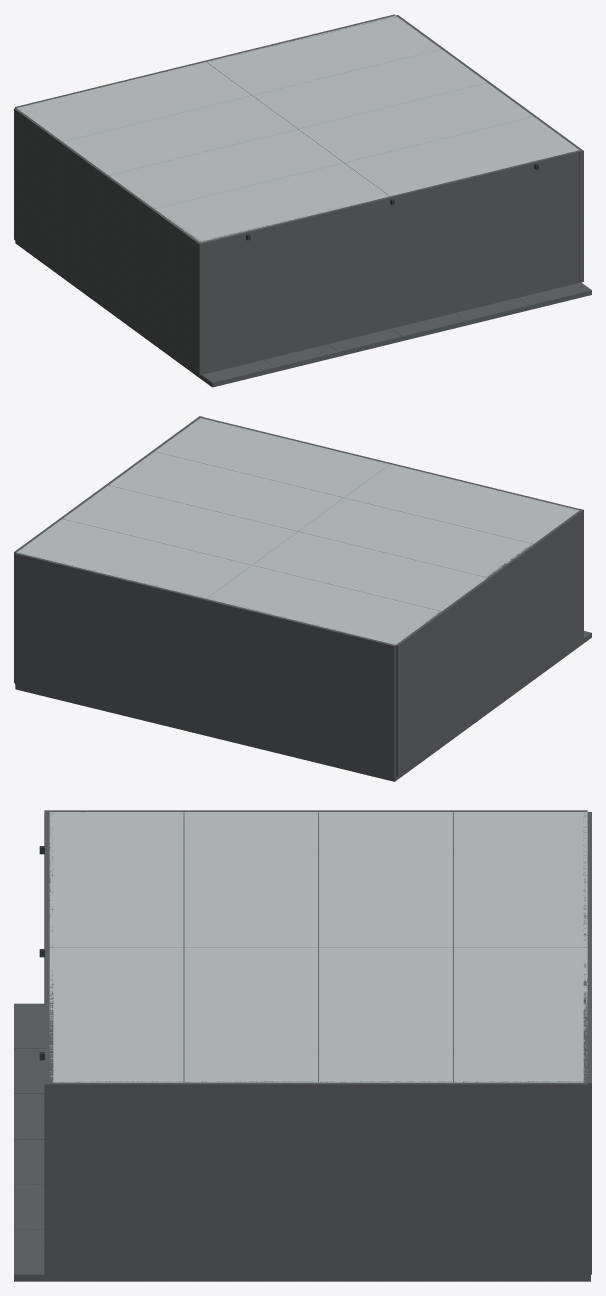
File: tier4.glb
3 renders of one model, top to bottom at view 1: azimuth 30°, elevation 25°; view 2: azimuth 150°, elevation 25°; view 3: azimuth 270°, elevation 25°, orthographic. The views are drawn at different scales.
Visible parts, largest first — view 1: Tier4_Warm_architectural_concrete, Tier4_Pale_ceramic_powdercoat, Tier4_Original_mottled_concrete; view 2: Tier4_Warm_architectural_concrete, Tier4_Pale_ceramic_powdercoat, Tier4_Original_mottled_concrete; view 3: Tier4_Pale_ceramic_powdercoat, Tier4_Warm_architectural_concrete, Tier4_Original_mottled_concrete, Tier4_Graphite_structural_powdercoat.
Part boxes in pixels (bbox=[...]): Tier4_Warm_architectural_concrete: bbox=[14, 14, 583, 375]; Tier4_Pale_ceramic_powdercoat: bbox=[17, 15, 579, 242]; Tier4_Original_mottled_concrete: bbox=[15, 241, 591, 387]; Tier4_Warm_architectural_concrete: bbox=[14, 416, 583, 777]; Tier4_Pale_ceramic_powdercoat: bbox=[17, 418, 579, 644]; Tier4_Original_mottled_concrete: bbox=[15, 631, 591, 781]; Tier4_Pale_ceramic_powdercoat: bbox=[49, 812, 587, 1082]; Tier4_Warm_architectural_concrete: bbox=[44, 810, 591, 1276]; Tier4_Original_mottled_concrete: bbox=[14, 1003, 590, 1281]; Tier4_Graphite_structural_powdercoat: bbox=[39, 817, 453, 1081].
Size of the model in its own units: 20.24 by 6.85 by 18.03.
Materials: 20 (4 with a texture image).
